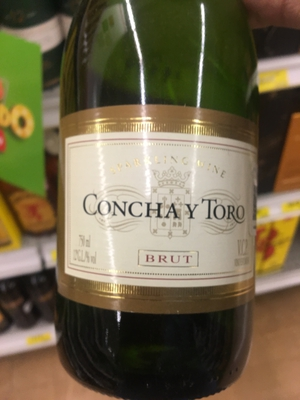brut: (53, 14, 264, 395)
